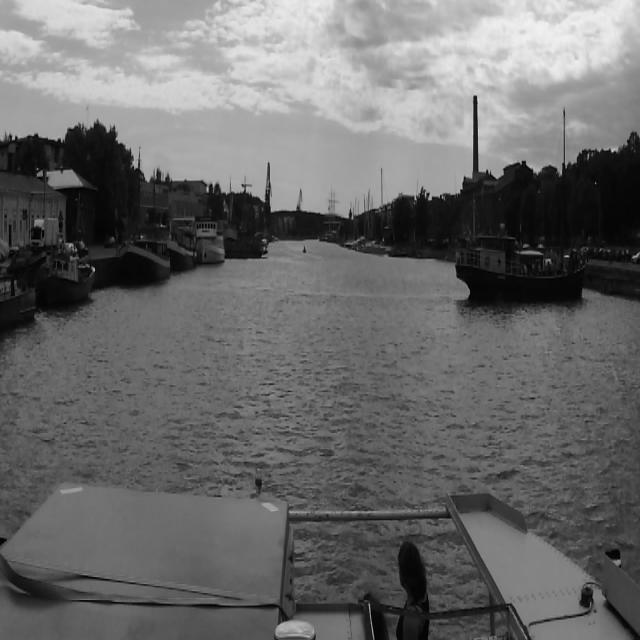ship: (456, 222, 588, 303), (168, 217, 198, 273), (319, 177, 341, 248), (197, 216, 225, 264), (225, 232, 268, 260), (302, 246, 306, 252)
